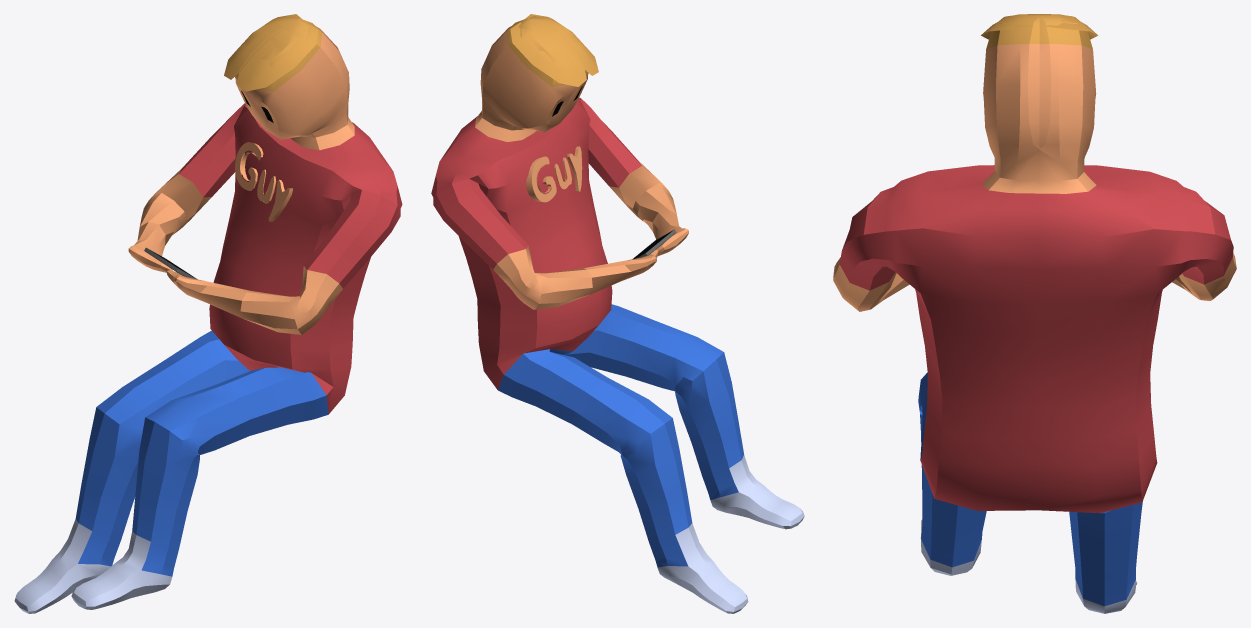
File: ManOnPhoneVisual.fbx
3 renders of one model, left to right at view 1: azimuth 30°, elevation 25°; view 2: azimuth 150°, elevation 25°; view 3: azimuth 270°, elevation 25°, orthographic. The views are drawn at different scales.
Parts seen in each view (by area): view 1: Human; view 2: Human; view 3: Human.
Part boxes in pixels (left/top/right/bottom): Human: left=14, top=14, right=402, bottom=613; Human: left=431, top=14, right=804, bottom=613; Human: left=833, top=14, right=1236, bottom=613.
Bounding box in the file's own units: 74.82 × 150 × 90.47.
